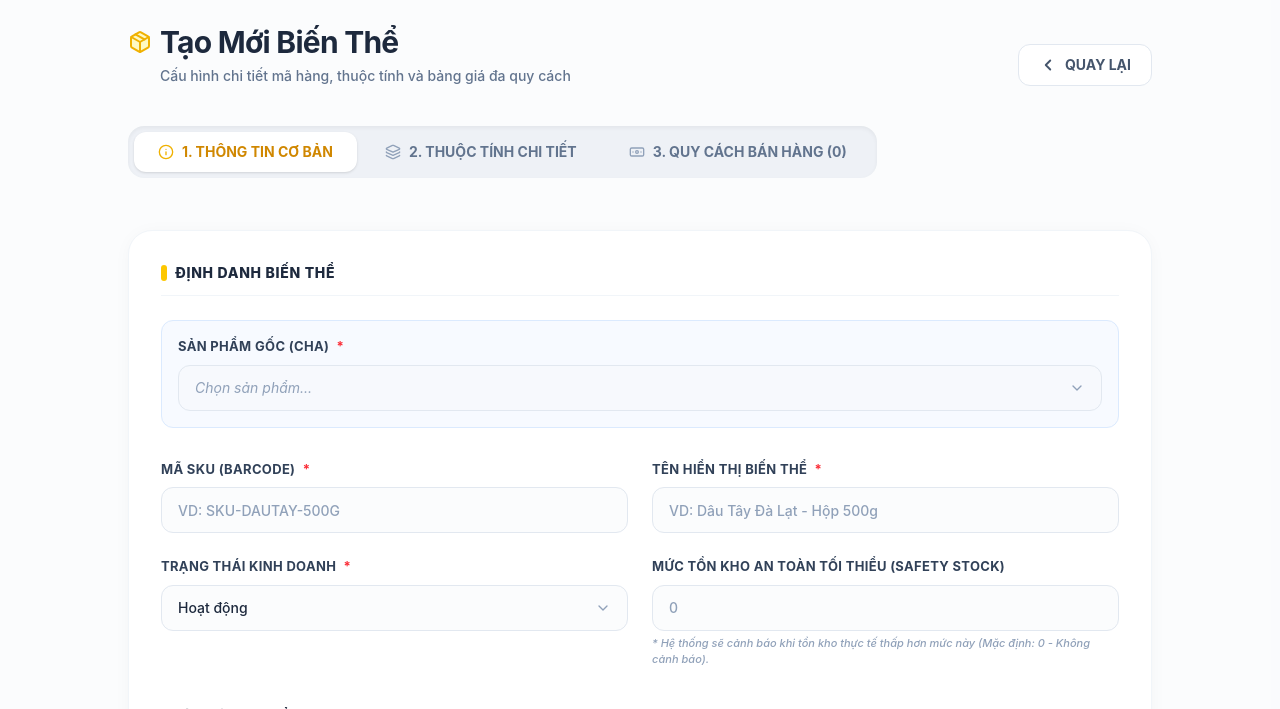
Test: Module 05 - ProductVariantForm Component › TC03 - Tải thuộc tính động EAV khi người dùng chọn Sản phẩm gốc và chuyển sang Tab 2
expect the button "1. THÔNG TIN CƠ BẢN" is shown: met, box [134,132,357,172]
What coordinates should you click on to do the following:
click the text "Chọn sản phẩm..."
I would click on:
 (254, 388)
Its box is [195,378,312,398].
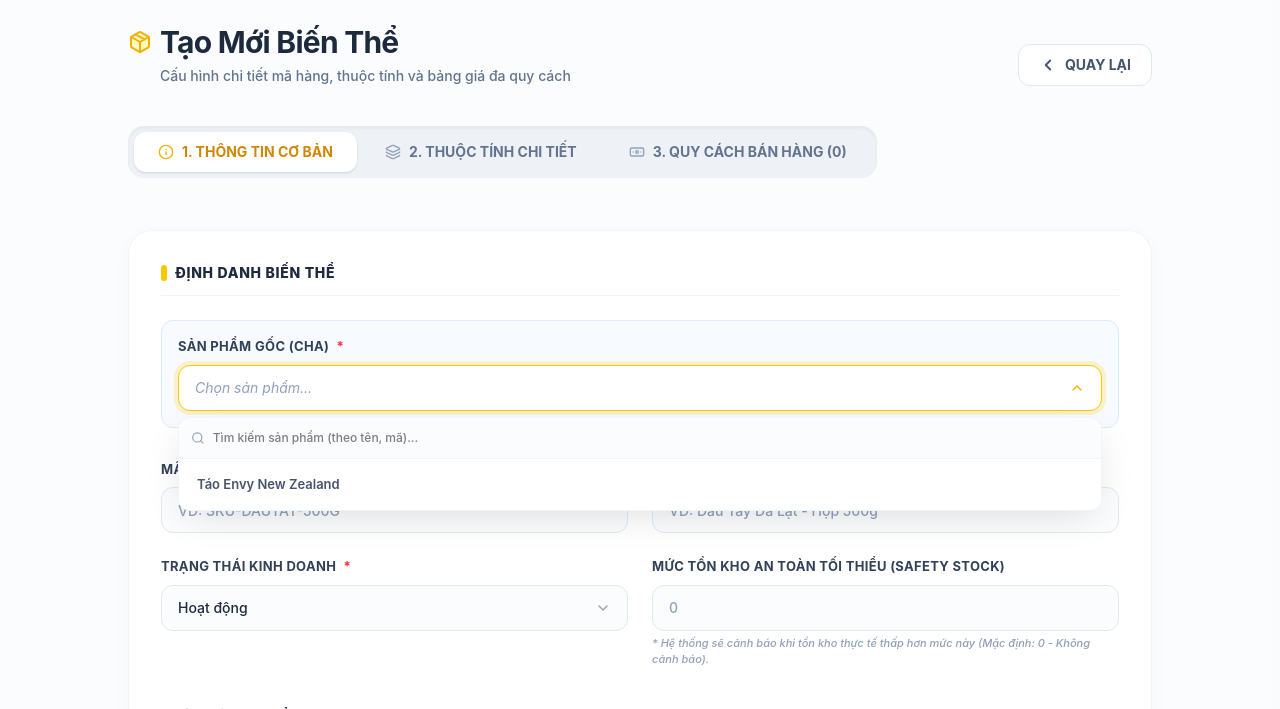
What coordinates should you click on to do the following:
click the text "Táo Envy New Zealand"
I would click on:
 (268, 484)
Its box is [197,476,340,492].
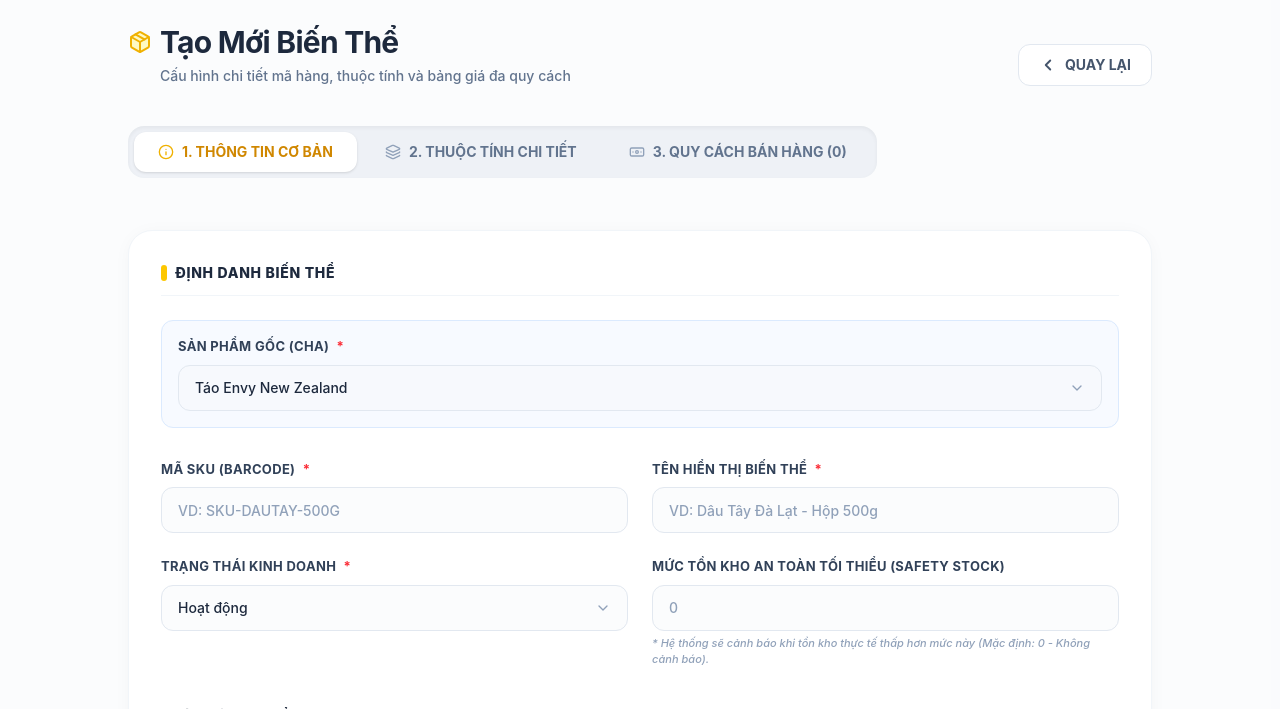
Note: Chuyển sang Tab 2
What coordinates should you click on to do the following:
click the button "2. THUỘC TÍNH CHI TIẾT"
I would click on:
 (481, 152)
Its box is [361,132,601,172].
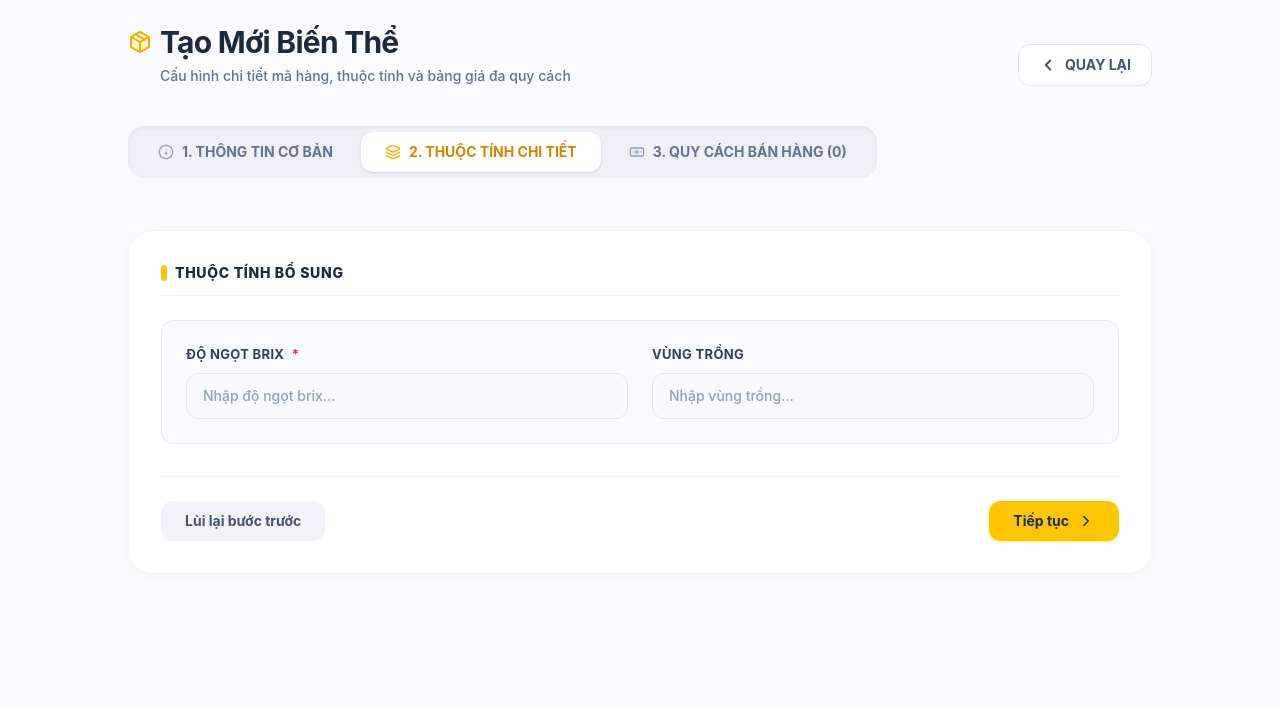
expect the text "Độ ngọt Brix" is shown: met, box [186,346,284,362]
expect the text "Vùng trồng" is shown: met, box [652,346,744,362]
